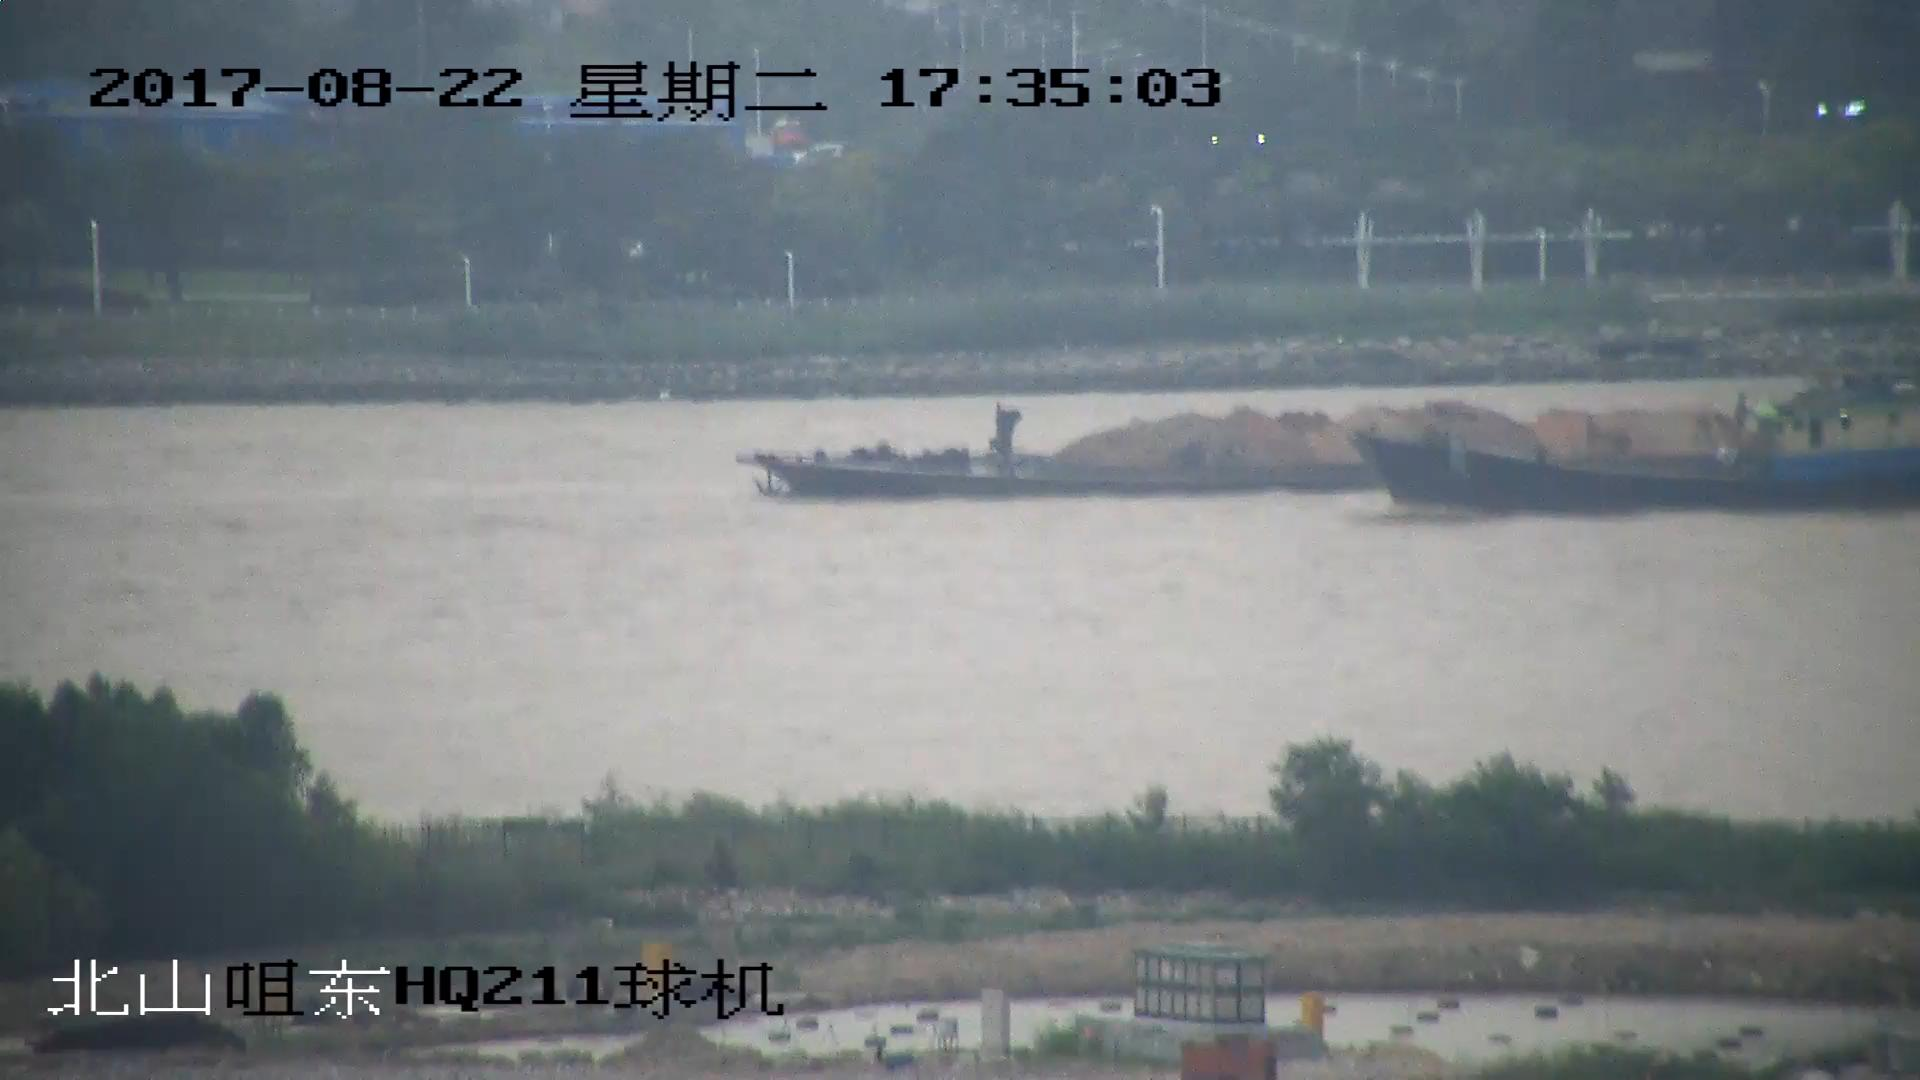fishing boat: (1367, 386, 1920, 515)
ore carrier: (746, 390, 1920, 498)
